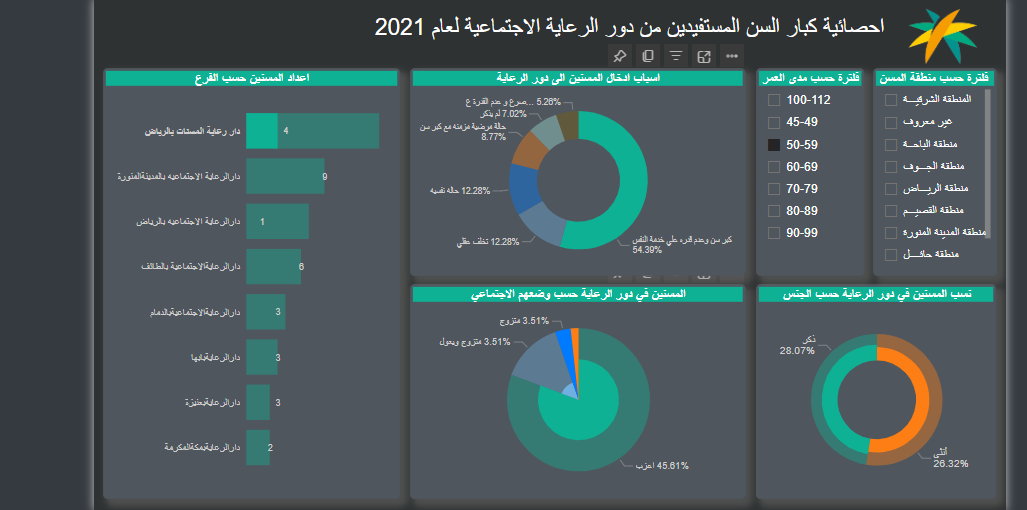

What the dashboard file says about the page in this screenshot:
{"tool":"powerbi","page":{"name":"Page 1","canvas":[1280,720],"ordinal":0},"visuals":[{"type":"donutChart","title":"نسب المسنين في دور الرعاية حسب الجنس","fields":{"Category":["الجدول1.الجنس"],"Y":["CountNonNull(الجدول1.الجنس)"]},"box":[929.8,401.1,337.3,301.9],"z":0},{"type":"clusteredBarChart","title":"اعداد المسنين حسب الفرع","fields":{"Y":["الجدول1.Count of eldery in place"],"Category":["الجدول1.الفرع"]},"box":[12.8,97.8,416.7,605.2],"z":1000},{"type":"pieChart","title":"المسنين في دور الرعاية حسب وضعهم الاجتماعي","fields":{"Y":["CountNonNull(الجدول1.الجنس)"],"Category":["الجدول1.الحالة الاجتماعية "]},"box":[443.6,401.1,470.6,301.9],"z":2000},{"type":"donutChart","title":"اسباب ادخال المسنين الى دور الرعاية","fields":{"Category":["الجدول1.أسباب الدخول "],"Y":["CountNonNull(الجدول1.أسباب الدخول )"]},"box":[443.6,97.8,470.6,292],"z":3000},{"type":"textbox","box":[0,18.4,1114,69.4],"z":4000},{"type":"slicer","title":"فلترة حسب مدى العمر","fields":{"Values":["Table.Age Range"]},"box":[929.8,97.8,151.7,292],"z":5000},{"type":"slicer","title":" فلترة حسب منطقة المسن","fields":{"Values":["Table.Regions"]},"box":[1092.8,97.8,174.3,292],"z":6000},{"type":"image","box":[1114,0,153.1,107.7],"z":6001}]}

Visuals, with their boxes in screenshot pixels (x1, y1, x2, y2):
"نسب المسنين في دور الرعاية حسب الجنس" donutChart: pyautogui.locateOnScreen(733, 294, 969, 505)
"اعداد المسنين حسب الفرع" clusteredBarChart: pyautogui.locateOnScreen(92, 82, 383, 505)
"المسنين في دور الرعاية حسب وضعهم الاجتماعي" pieChart: pyautogui.locateOnScreen(393, 294, 723, 505)
"اسباب ادخال المسنين الى دور الرعاية" donutChart: pyautogui.locateOnScreen(393, 82, 723, 286)
textbox: pyautogui.locateOnScreen(83, 26, 862, 75)
"فلترة حسب مدى العمر" slicer: pyautogui.locateOnScreen(733, 82, 840, 286)
" فلترة حسب منطقة المسن" slicer: pyautogui.locateOnScreen(848, 82, 969, 286)
image: pyautogui.locateOnScreen(862, 13, 969, 89)
